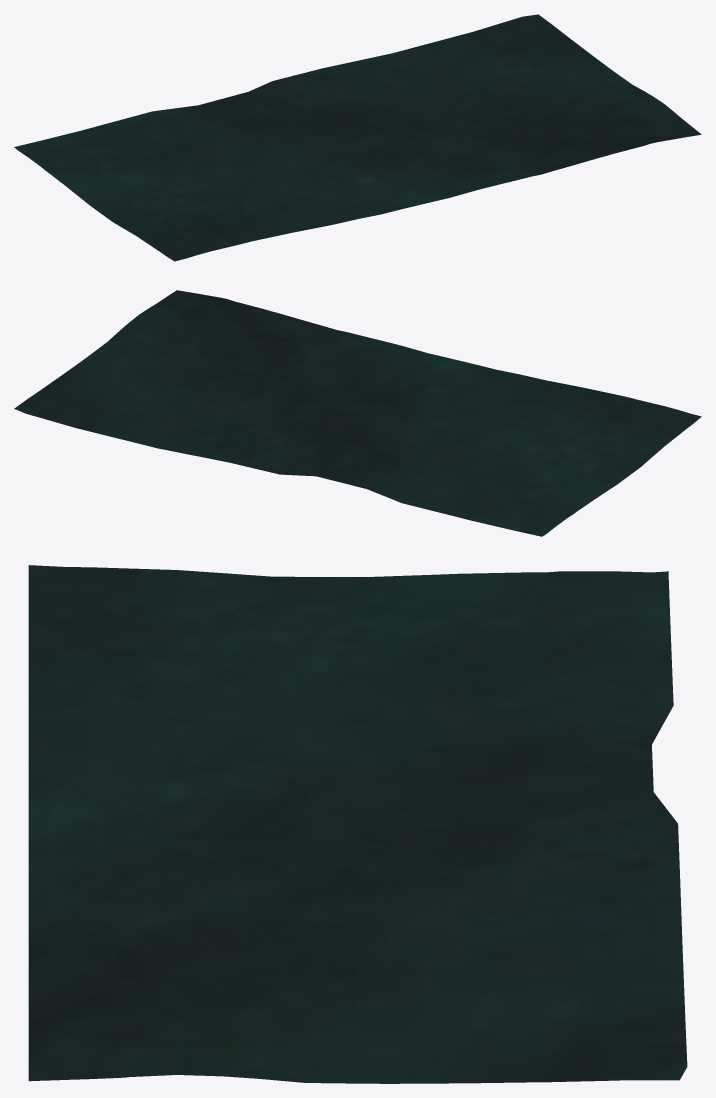
3 renders of one model, top to bottom at view 1: azimuth 30°, elevation 25°; view 2: azimuth 150°, elevation 25°; view 3: azimuth 270°, elevation 25°, orthographic. The views are drawn at different scales.
Bounding box in the file's own units: 52.22 × 0.7507 × 28.37.
1 material, 1 textured.
